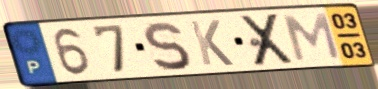6: (51, 26, 93, 77)
7: (91, 23, 129, 75)
K: (187, 18, 237, 68)
M: (280, 11, 343, 63)
S: (141, 19, 193, 73)
X: (238, 11, 298, 69)
